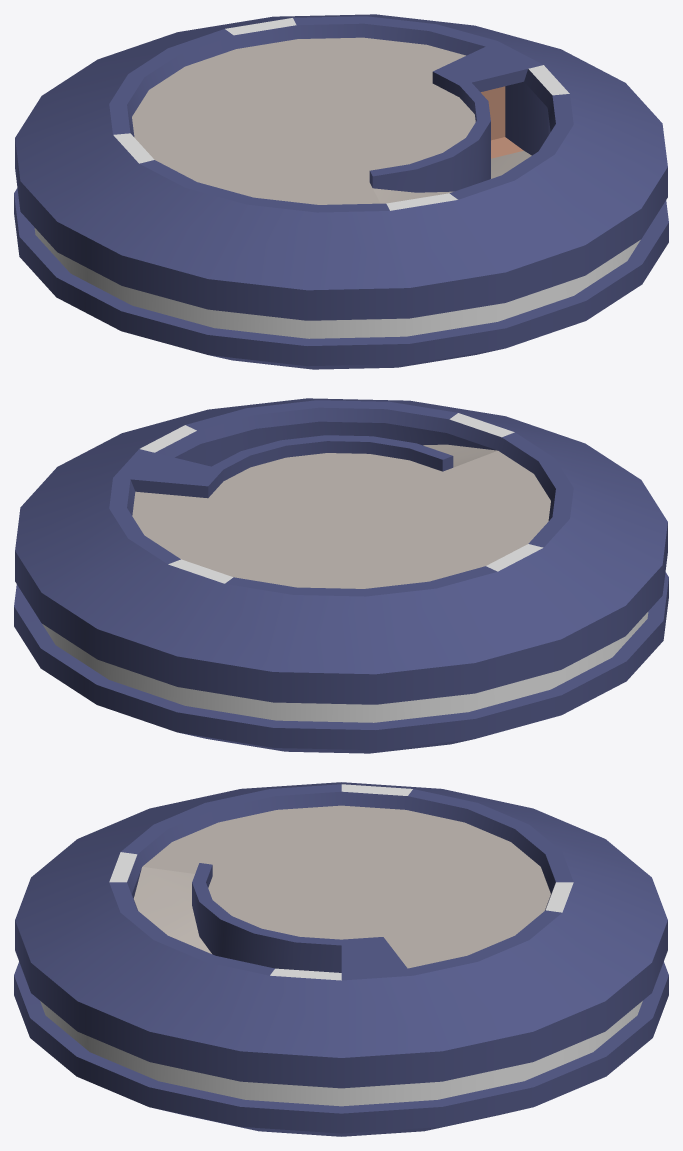
Rendered from platform.fbx.
3 renders of one model, top to bottom at view 1: azimuth 30°, elevation 25°; view 2: azimuth 150°, elevation 25°; view 3: azimuth 270°, elevation 25°, orthographic.
Parts seen in each view (by area): view 1: Cylinder; view 2: Cylinder; view 3: Cylinder.
Boxes of the visible parts, x1,y1,x2,y2 form: Cylinder: [14, 14, 668, 369]; Cylinder: [14, 398, 668, 753]; Cylinder: [14, 782, 668, 1136].
Size of the model in its own units: 2317 by 835 by 2317.
